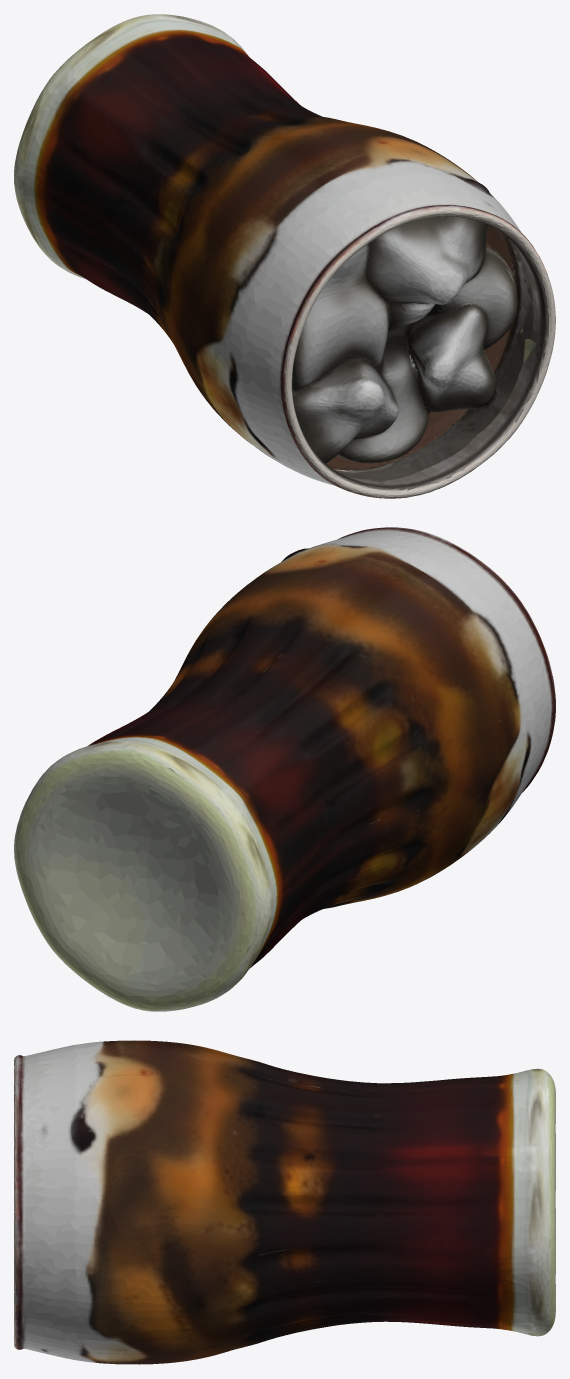
The model's file is coke0_visual.obj.
3 renders of one model, top to bottom at view 1: azimuth 30°, elevation 25°; view 2: azimuth 150°, elevation 25°; view 3: azimuth 270°, elevation 25°, orthographic. The views are drawn at different scales.
Size of the model in its own units: 0.0918 by 0.0918 by 0.1531.
1 material, 1 textured.
